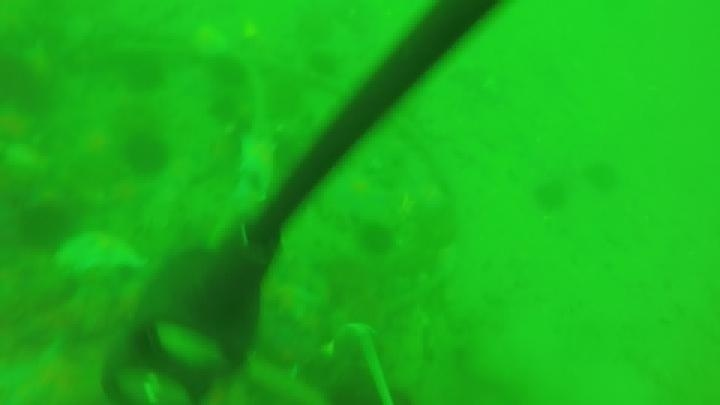echinus: (16, 202, 75, 253), (121, 131, 171, 178), (121, 53, 167, 95), (208, 54, 249, 89), (533, 177, 572, 213), (583, 153, 622, 189), (300, 45, 339, 81), (197, 89, 236, 125), (357, 222, 396, 256)
starfish: (1, 339, 110, 405)
